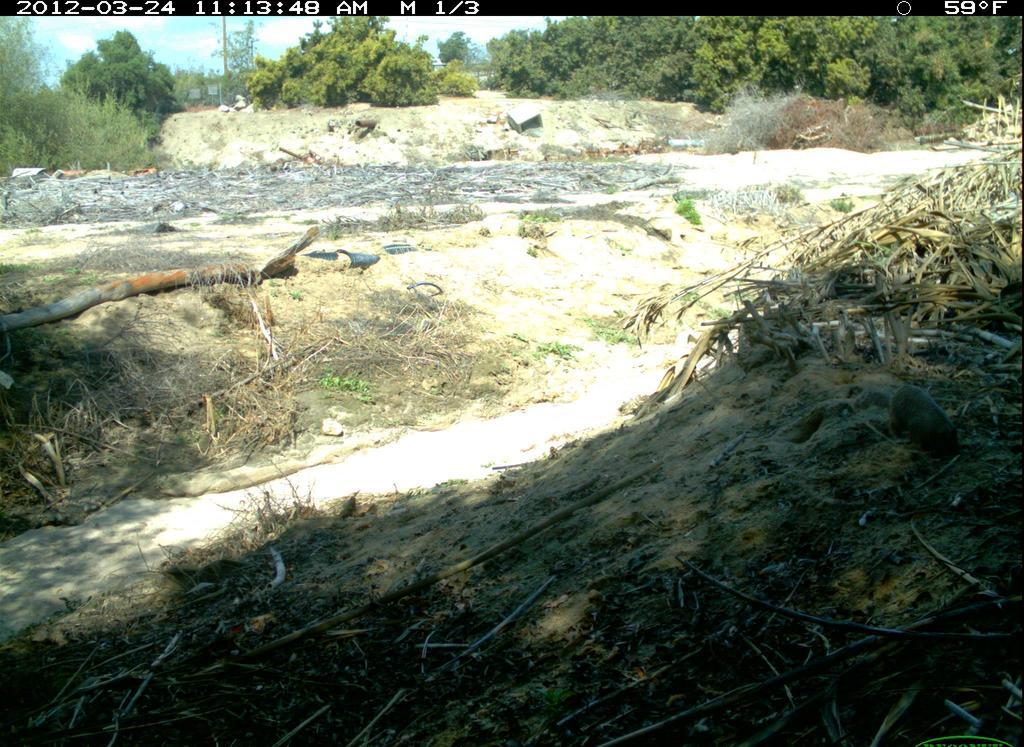squirrel: (863, 380, 965, 469)
